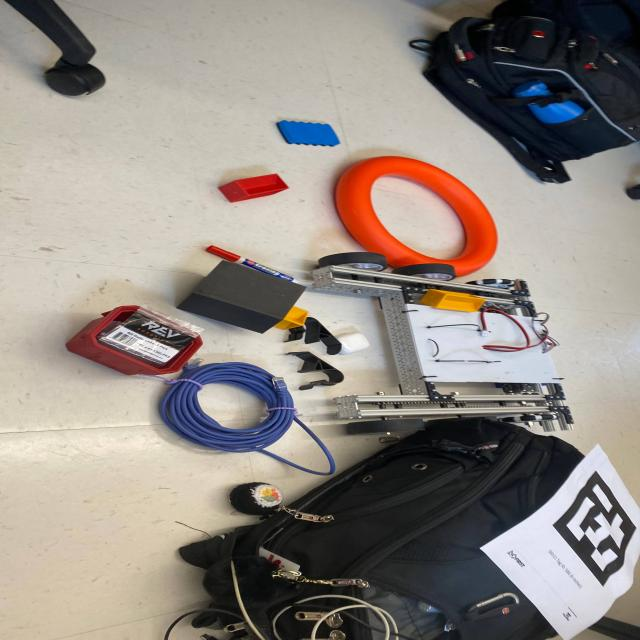red-specimen: (218, 174, 288, 202)
yellow-specimen: (419, 289, 485, 312), (274, 306, 308, 330)
